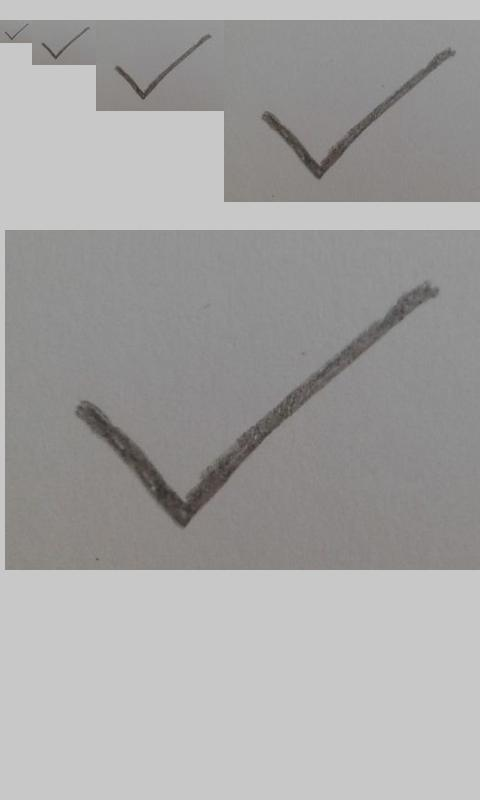check_box: (76, 286, 431, 526), (262, 48, 453, 179), (116, 34, 210, 100), (42, 27, 89, 59), (5, 24, 28, 40)
